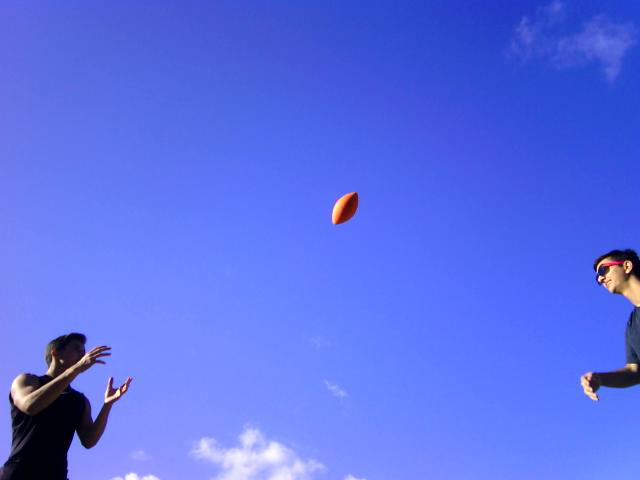football: (326, 188, 368, 229)
